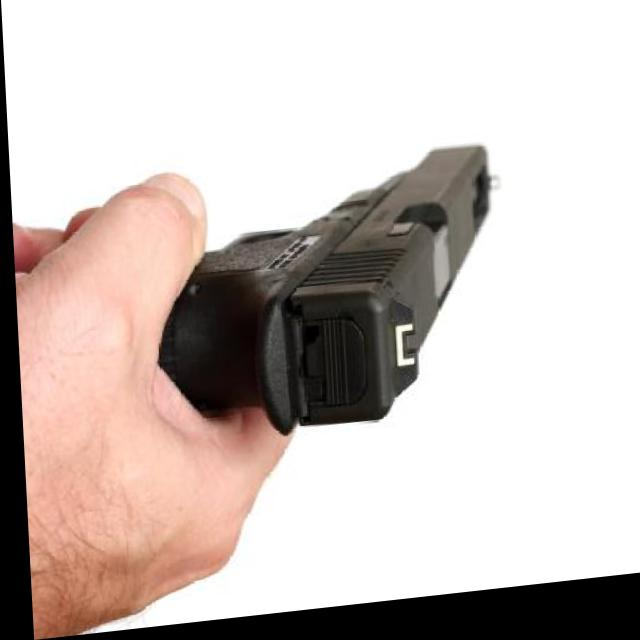handgun: (141, 149, 512, 452)
